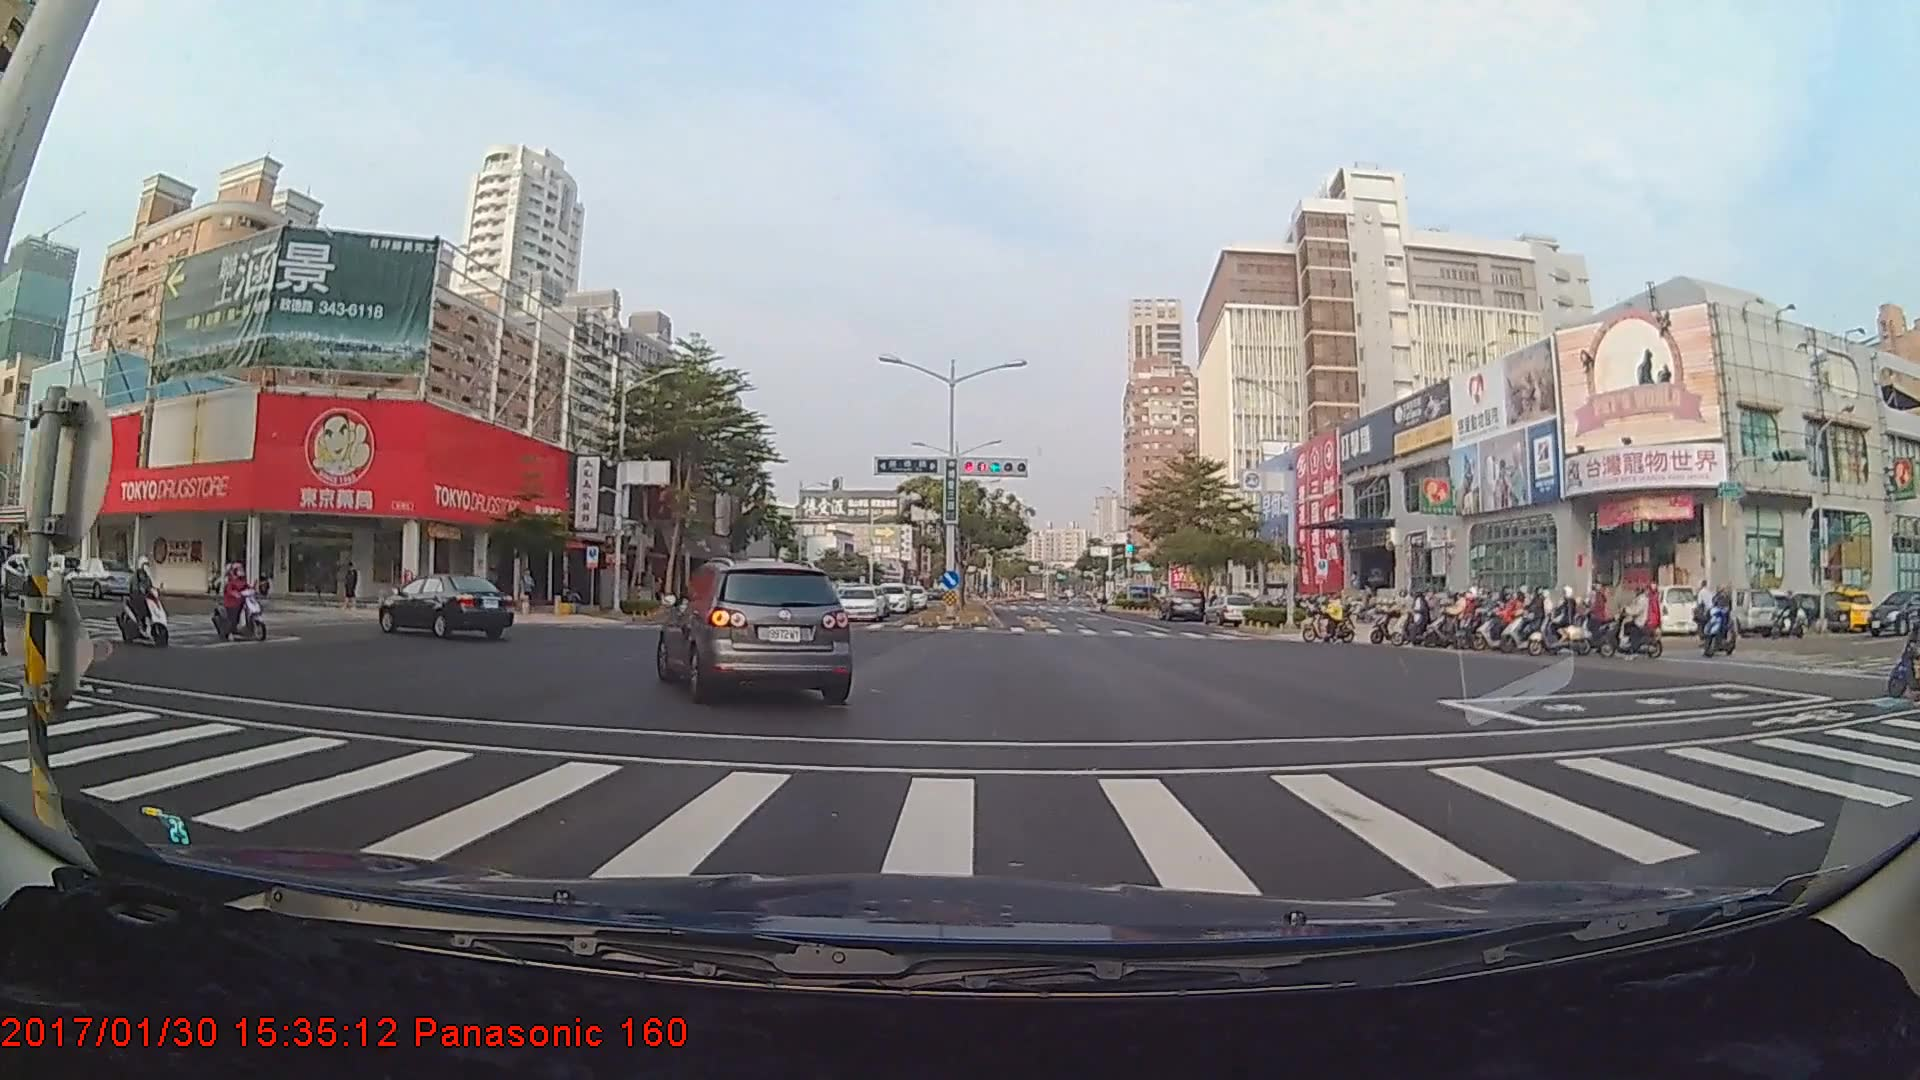rider: (1594, 578, 1665, 666), (209, 567, 272, 642), (1525, 586, 1590, 656), (1365, 591, 1431, 647), (1498, 589, 1559, 650), (1297, 586, 1355, 642), (1410, 590, 1465, 647), (1700, 590, 1742, 662)
vehicle: (657, 553, 854, 704), (380, 573, 514, 640), (59, 556, 140, 599), (832, 584, 886, 622), (1159, 586, 1204, 622), (873, 581, 912, 612)
